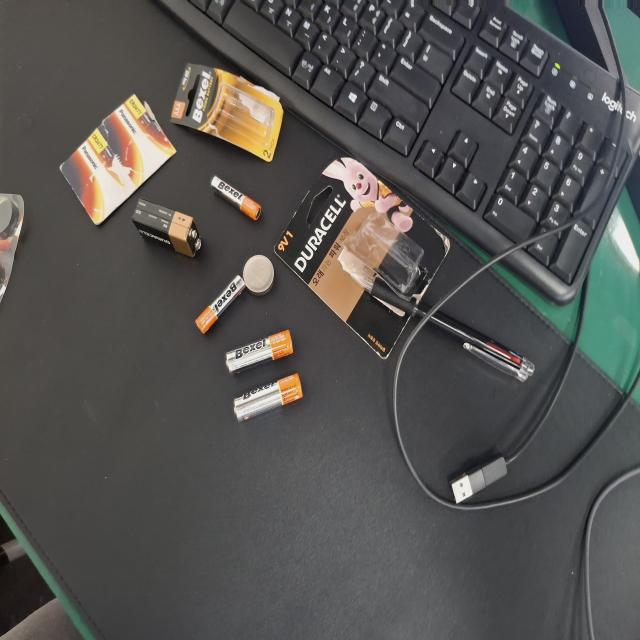9V: (287, 176, 331, 268)
AA: (163, 312, 200, 403), (200, 302, 232, 389)
AAA: (230, 260, 274, 330), (314, 282, 348, 348)
COIN: (259, 324, 289, 366)
